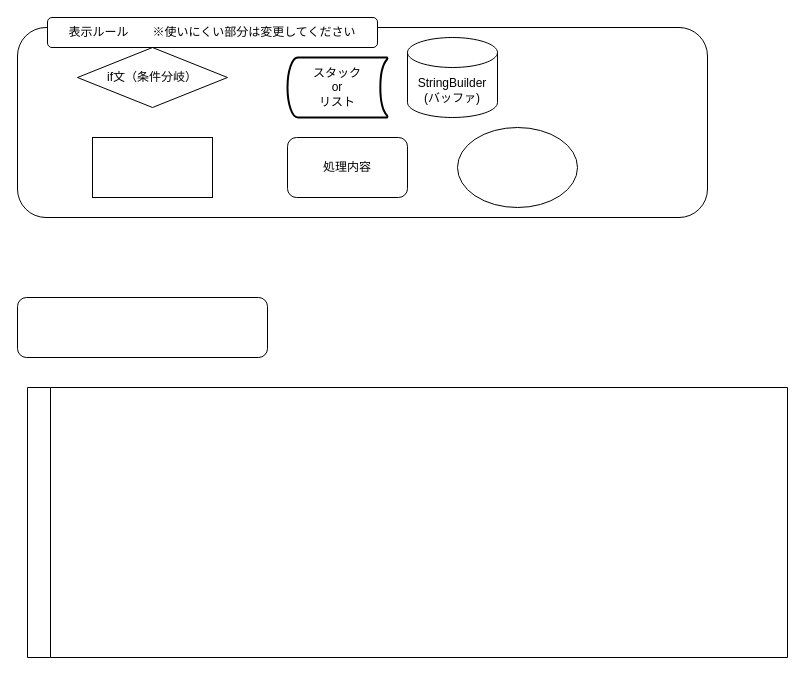
Some shapes in this 805 by 675 pixel diagram are drawn without their labels. The shapes that lost their labels are listed below. From the top down, each one's centre as x and y in pixels, then its label:
point 517,167: 外部からの入力
point 142,327: 入力された数字、記号の振り分け処理
point 407,522: Horizontal Container
